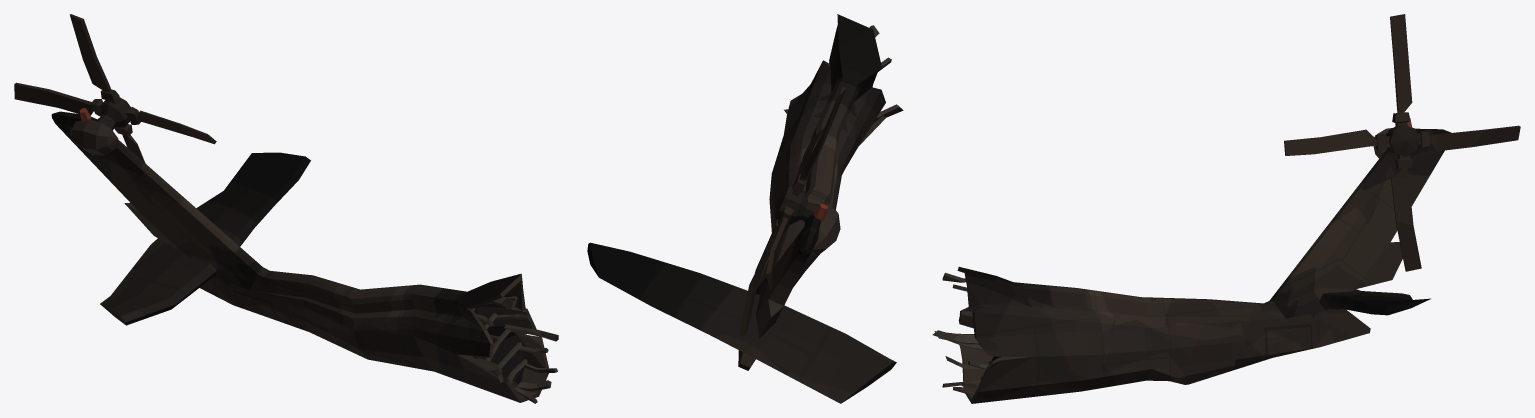
File: SM_Veh_Helicopter_Transport_01_Destroyed_Back.fbx
3 renders of one model, left to right at view 1: azimuth 30°, elevation 25°; view 2: azimuth 150°, elevation 25°; view 3: azimuth 270°, elevation 25°, orthographic. The views are drawn at different scales.
Visible parts, largest first — view 1: SM_Veh_Helicopter_Transport_01_Destroyed_Back; view 2: SM_Veh_Helicopter_Transport_01_Destroyed_Back; view 3: SM_Veh_Helicopter_Transport_01_Destroyed_Back.
Boxes of the visible parts, x1,y1,x2,y2 form: SM_Veh_Helicopter_Transport_01_Destroyed_Back: [14, 14, 558, 403]; SM_Veh_Helicopter_Transport_01_Destroyed_Back: [587, 14, 903, 403]; SM_Veh_Helicopter_Transport_01_Destroyed_Back: [932, 14, 1520, 403].
Size of the model in its own units: 406 by 439 by 812.
